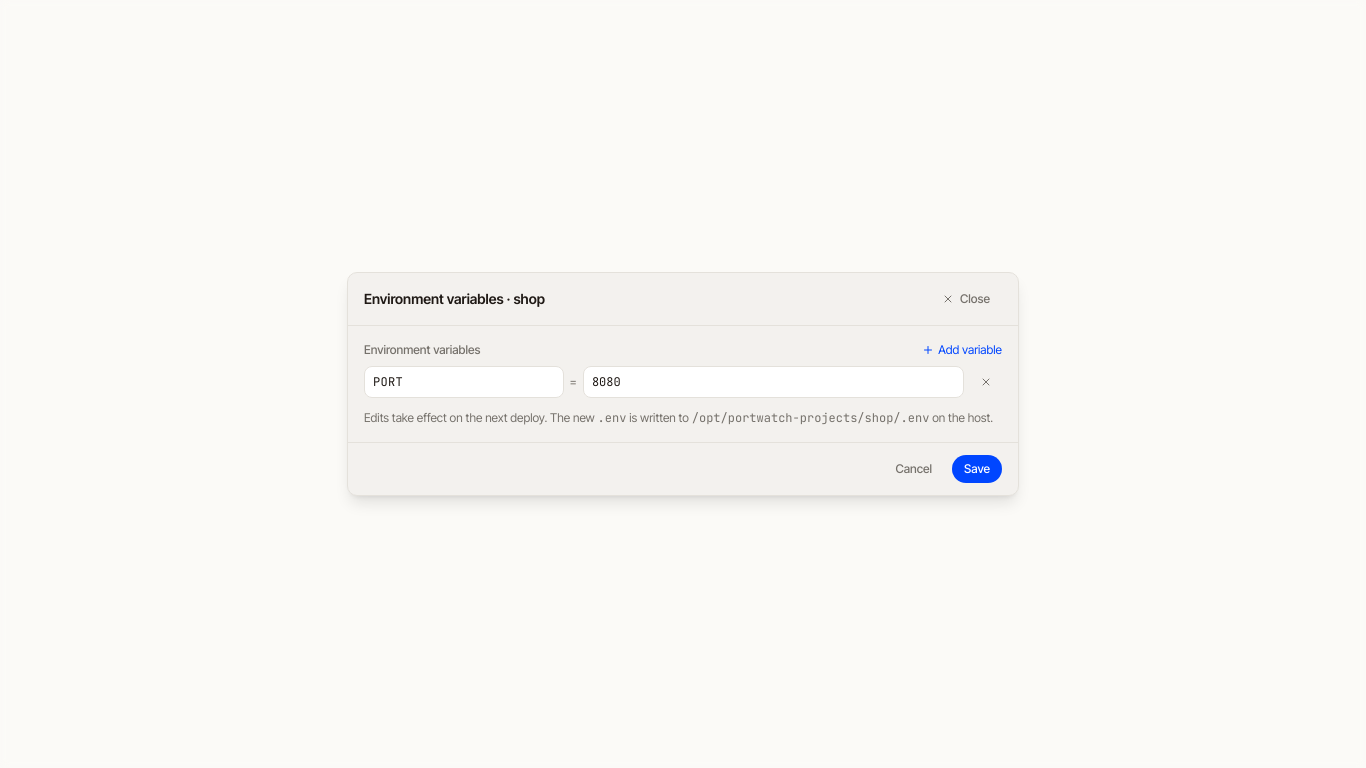
Test: EditEnvModal › stays open and shows the server error when saving fails
The width and height of the screenshot is (1366, 768).
Step 1. Click the button "Save" → [977, 469], box [952,455,1002,483]
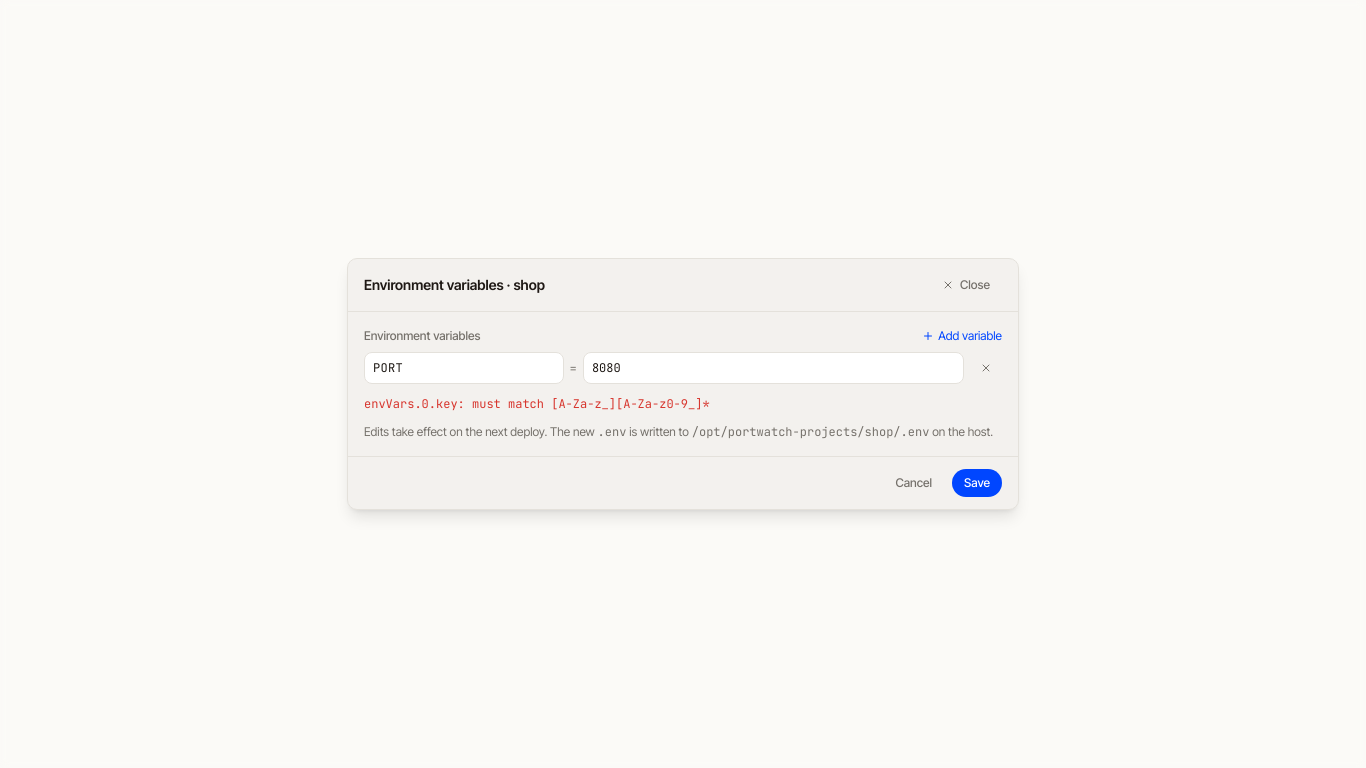
Check: the button "Save" is enabled, box [952,469,1002,497]
Check: the text "envVars.0.key: must match [A-Za-z_][A-Za-z0-9_]*" is shown, box [364,396,710,412]
